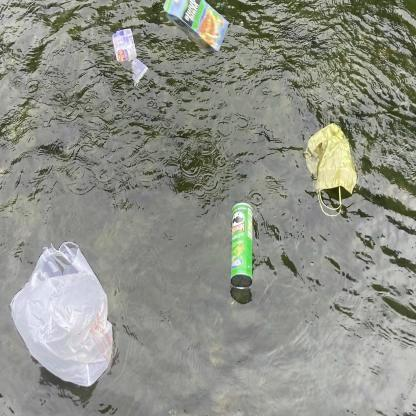Metal: (223, 194, 260, 298)
Plastic: (6, 237, 116, 396), (108, 24, 150, 88)
Trash: (298, 116, 362, 220)
